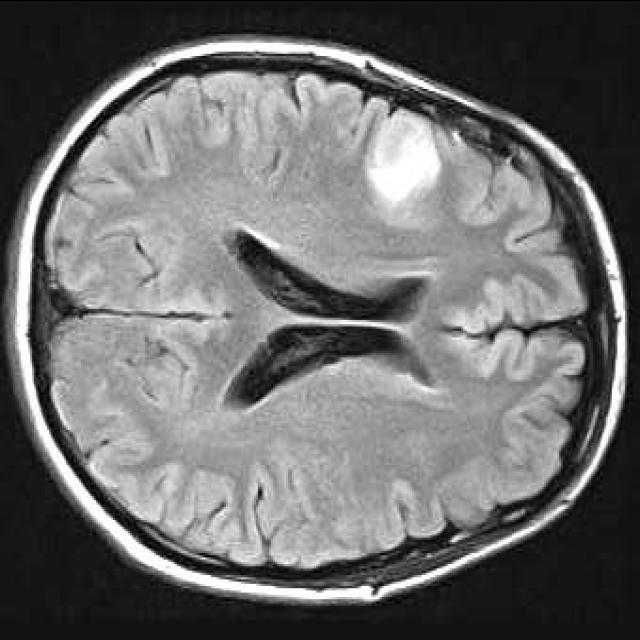tumor: (366, 109, 443, 206)
